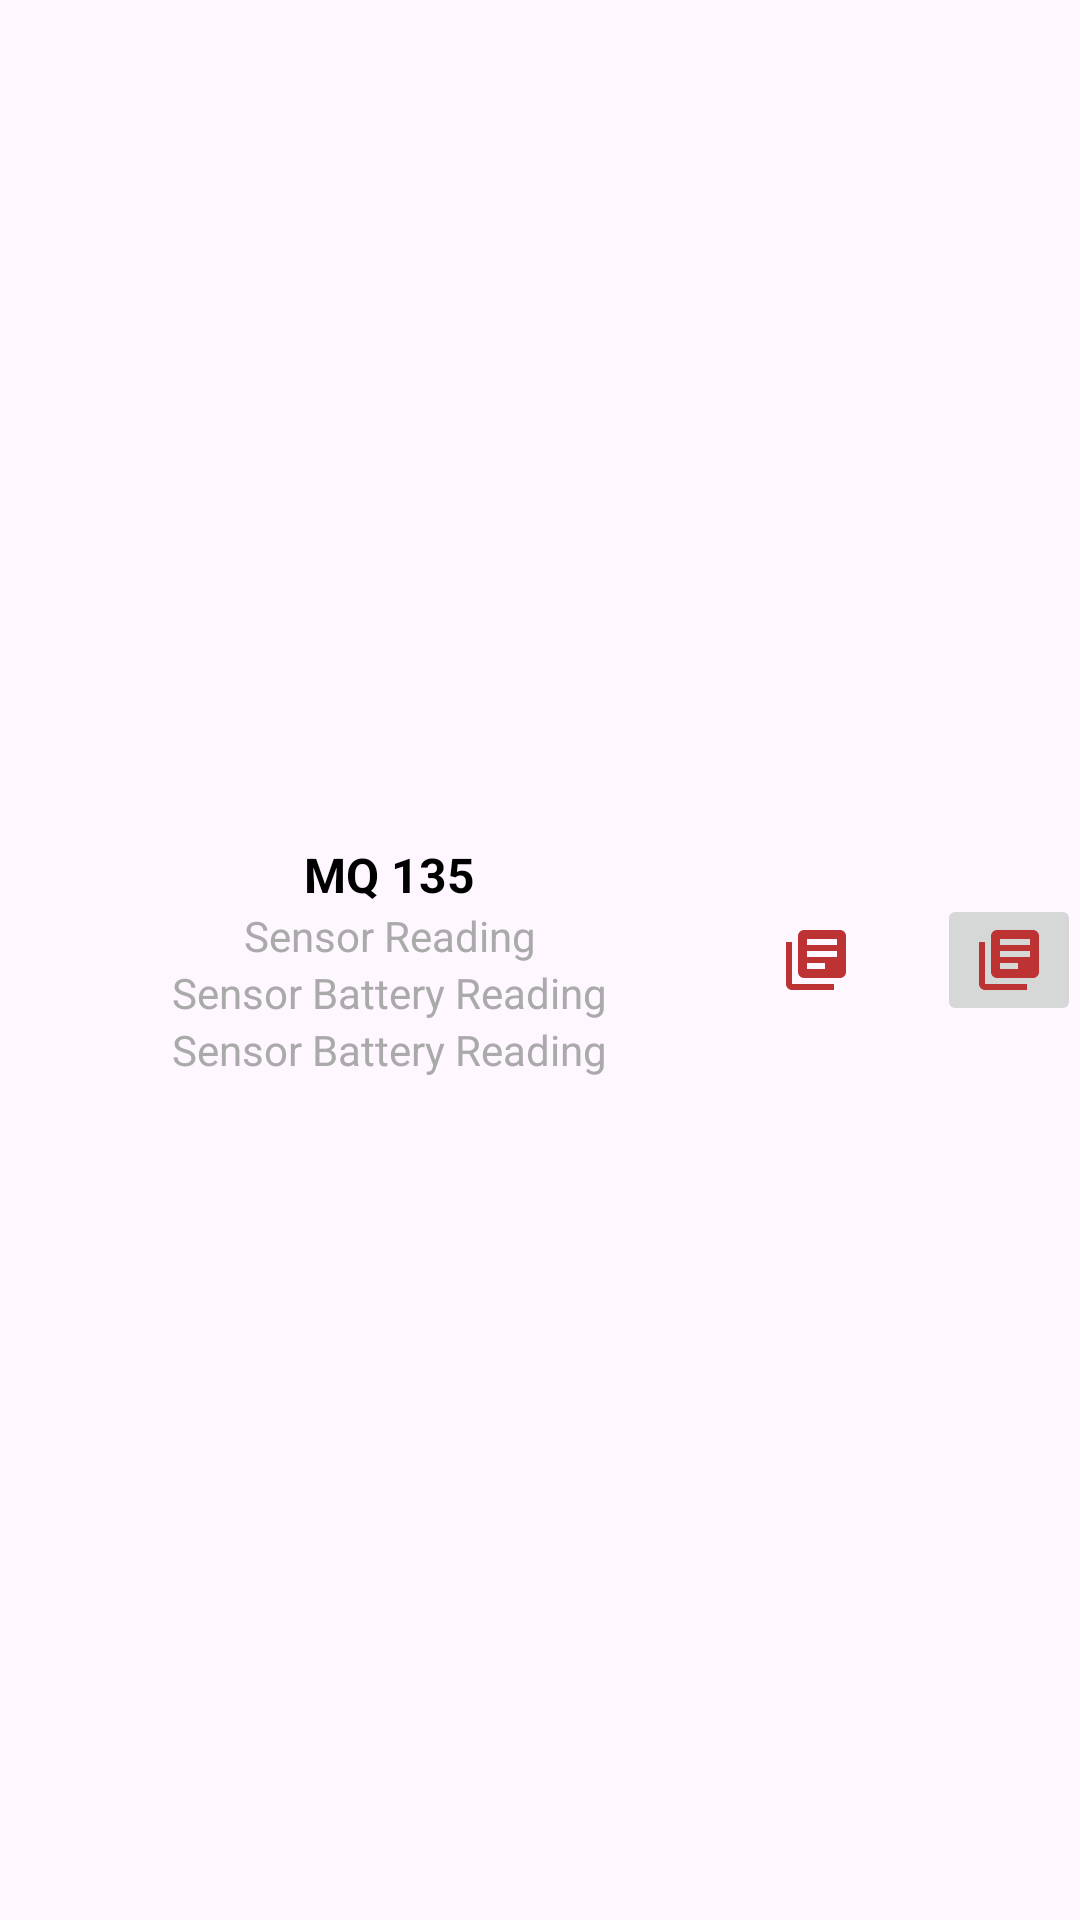

Icons on this 1080x1920 Android screen, each with the point to tap as [x,y]:
Details Button: [1009,960], [816,960]
